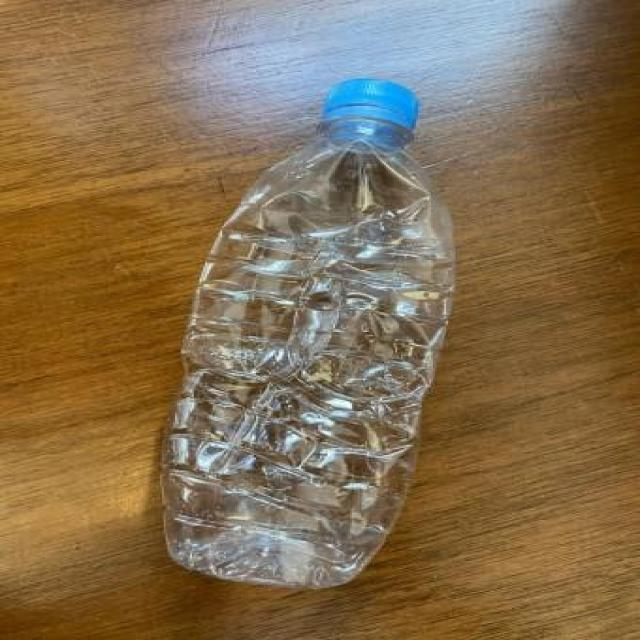bottle: (146, 56, 475, 618)
